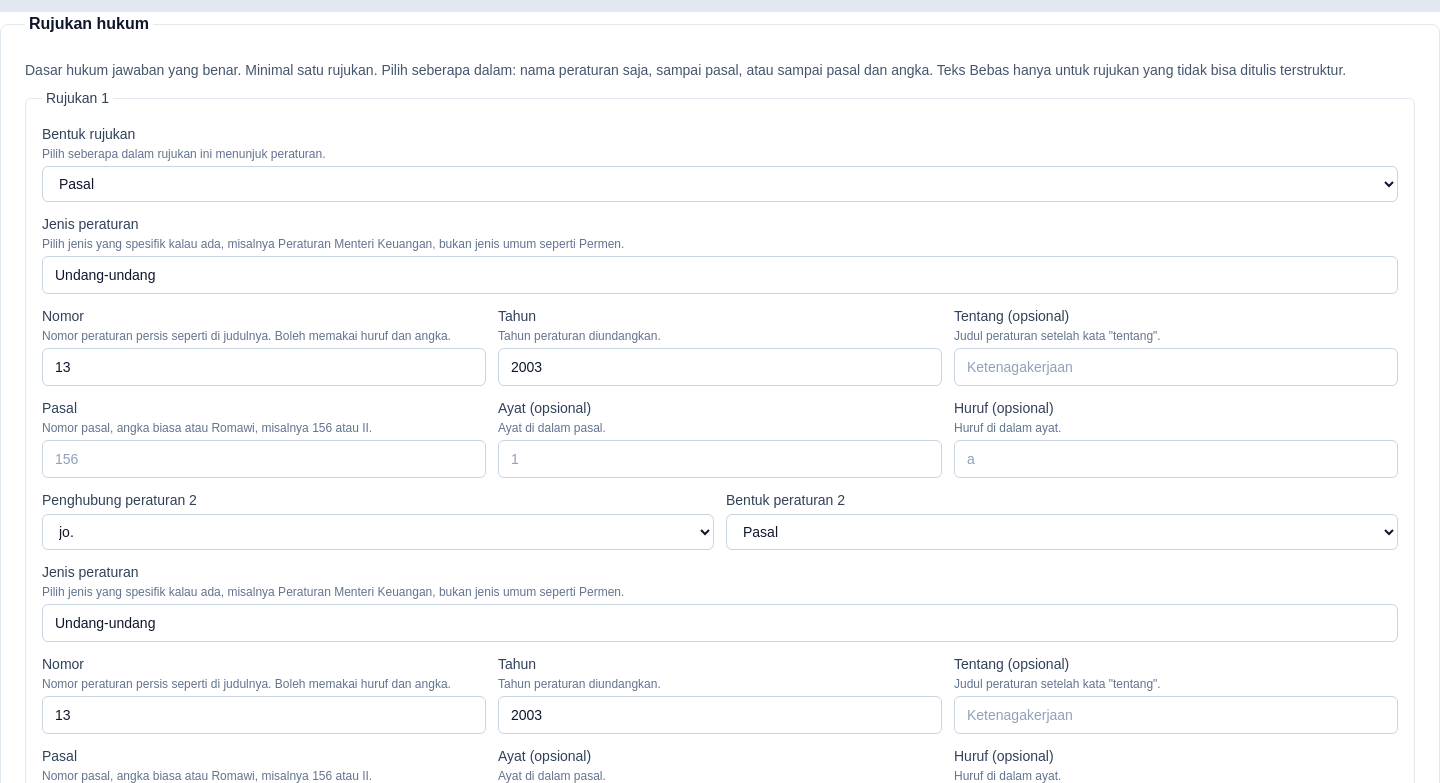
Test case: LegalRefsSection chaining regulations (AC6, SCRUM-162) › does not ask when the new form is not Teks Bebas
Select "Nama Peraturan saja" in the dropdown labelled "Bentuk rujukan": (720, 184) top-left (42, 166), bottom-right (1398, 202)
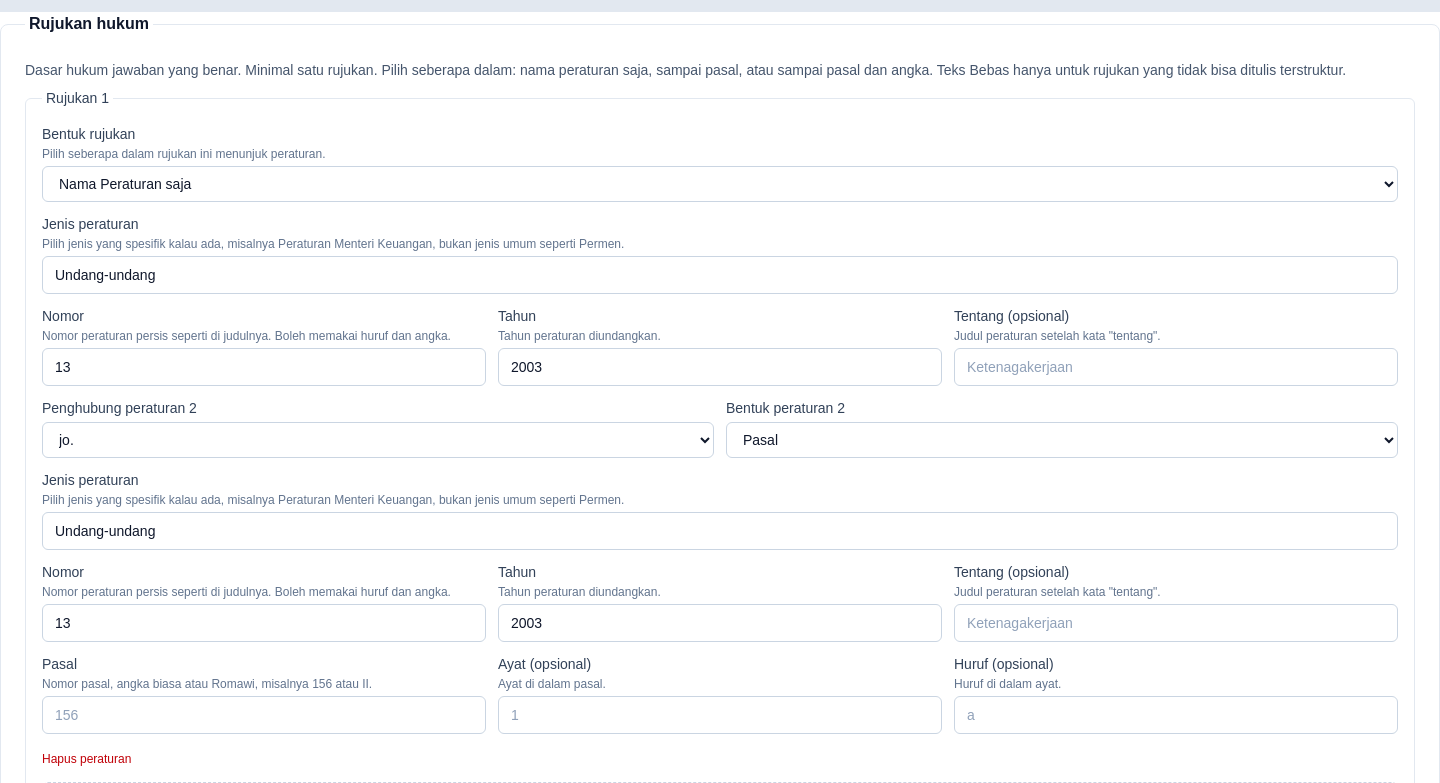
expect the dropdown labelled "Bentuk rujukan" shows "Nama Peraturan saja": met, box top-left (42, 166), bottom-right (1398, 202)
